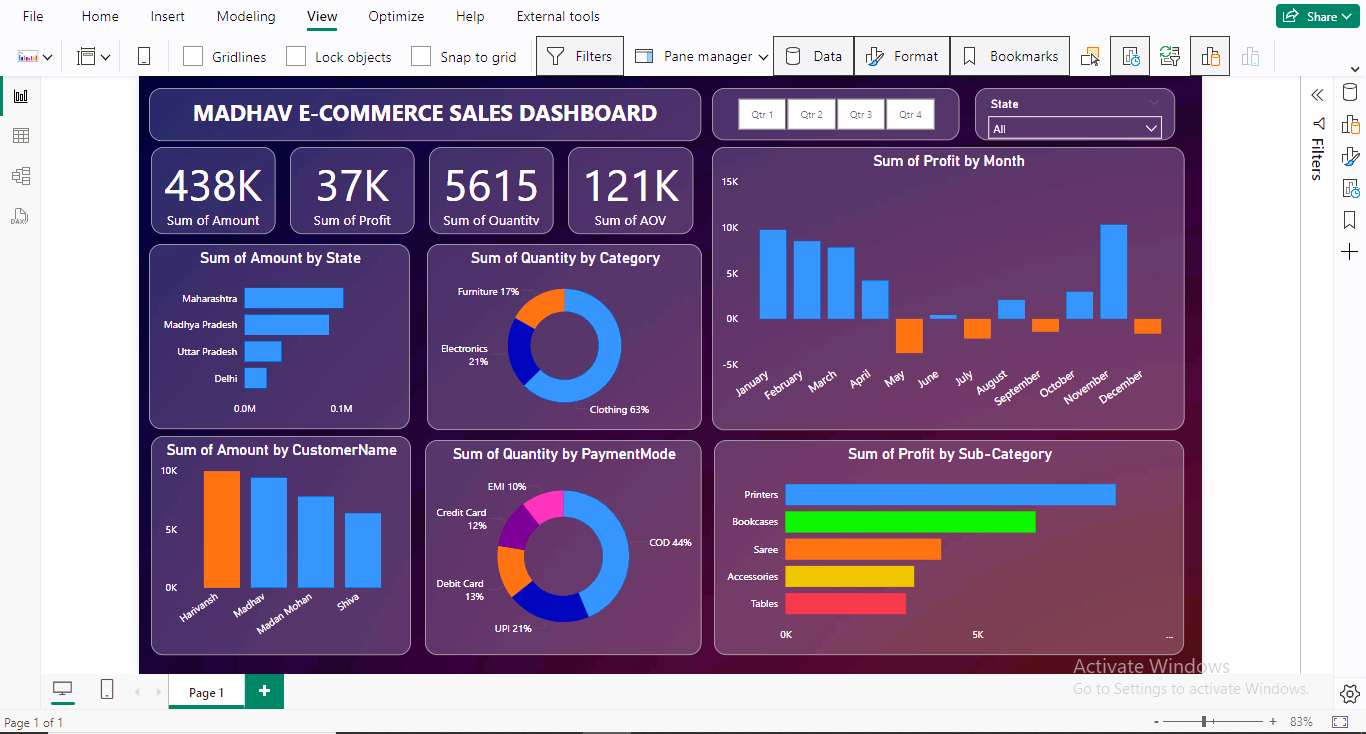

Layout of this report page (visuals, bound fields, positions):
{"tool":"powerbi","page":{"name":"Page 1","canvas":[1280,720],"ordinal":0},"visuals":[{"type":"card","fields":{"Values":["Details.Amount"]},"box":[14.4,85.9,150,105],"z":0},{"type":"card","fields":{"Values":["Details.Profit"]},"box":[181.9,85.8,150,105.2],"z":1000},{"type":"card","fields":{"Values":["Details.Quantity"]},"box":[349.3,85.9,150,105],"z":2000},{"type":"card","fields":{"Values":["Details.AOV"]},"box":[516.5,85.6,150.5,105.2],"z":3000},{"type":"textbox","box":[11.6,14.5,664.7,64],"z":4000},{"type":"slicer","fields":{"Values":["Orders.Order Date.Variation.Date Hierarchy.Quarter"]},"box":[690,15,297.5,62.5],"z":5000},{"type":"slicer","fields":{"Values":["Orders.State"]},"box":[1007.1,14.5,240.9,63.4],"z":6000},{"type":"columnChart","fields":{"Category":["Orders.Order Date.Variation.Date Hierarchy.Month"],"Y":["Details.Profit"]},"box":[690,85,568.8,341.2],"z":7000},{"type":"barChart","fields":{"Category":["Details.Sub-Category"],"Y":["Details.Profit"]},"box":[692.5,438.8,566.2,258.8],"z":8000},{"type":"donutChart","fields":{"Category":["Details.Category"],"Y":["Details.Quantity"]},"box":[346.2,202.5,331.2,223.8],"z":9000},{"type":"donutChart","fields":{"Y":["Details.Quantity"],"Category":["Details.PaymentMode"]},"box":[344.2,438.3,333.3,259],"z":10000},{"type":"columnChart","fields":{"Y":["Details.Amount"],"Category":["Orders.CustomerName"]},"box":[15,433.8,312.5,263.8],"z":11000},{"type":"barChart","fields":{"Category":["Orders.State"],"Y":["Details.Amount"]},"box":[12.4,202.1,314.4,222.7],"z":12000}]}

Visuals, with their boxes on the page's 1280x720 design canvas (x1, y1, x2, y2). These are canvas units, not pixel positions in the 1366x734 screenshot, which may show the page scaled, cropped or inside an application window:
card - Details.Amount: <box>14,86,164,191</box>
card - Details.Profit: <box>182,86,332,191</box>
card - Details.Quantity: <box>349,86,499,191</box>
card - Details.AOV: <box>516,86,667,191</box>
textbox: <box>12,14,676,78</box>
slicer - Orders.Order Date.Variation.Date Hierarchy.Quarter: <box>690,15,988,78</box>
slicer - Orders.State: <box>1007,14,1248,78</box>
columnChart - Orders.Order Date.Variation.Date Hierarchy.Month x Details.Profit: <box>690,85,1259,426</box>
barChart - Details.Sub-Category x Details.Profit: <box>692,439,1259,698</box>
donutChart - Details.Category x Details.Quantity: <box>346,202,677,426</box>
donutChart - Details.Quantity x Details.PaymentMode: <box>344,438,678,697</box>
columnChart - Details.Amount x Orders.CustomerName: <box>15,434,328,698</box>
barChart - Orders.State x Details.Amount: <box>12,202,327,425</box>
